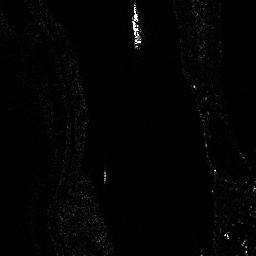ship: (129, 2, 142, 49)
